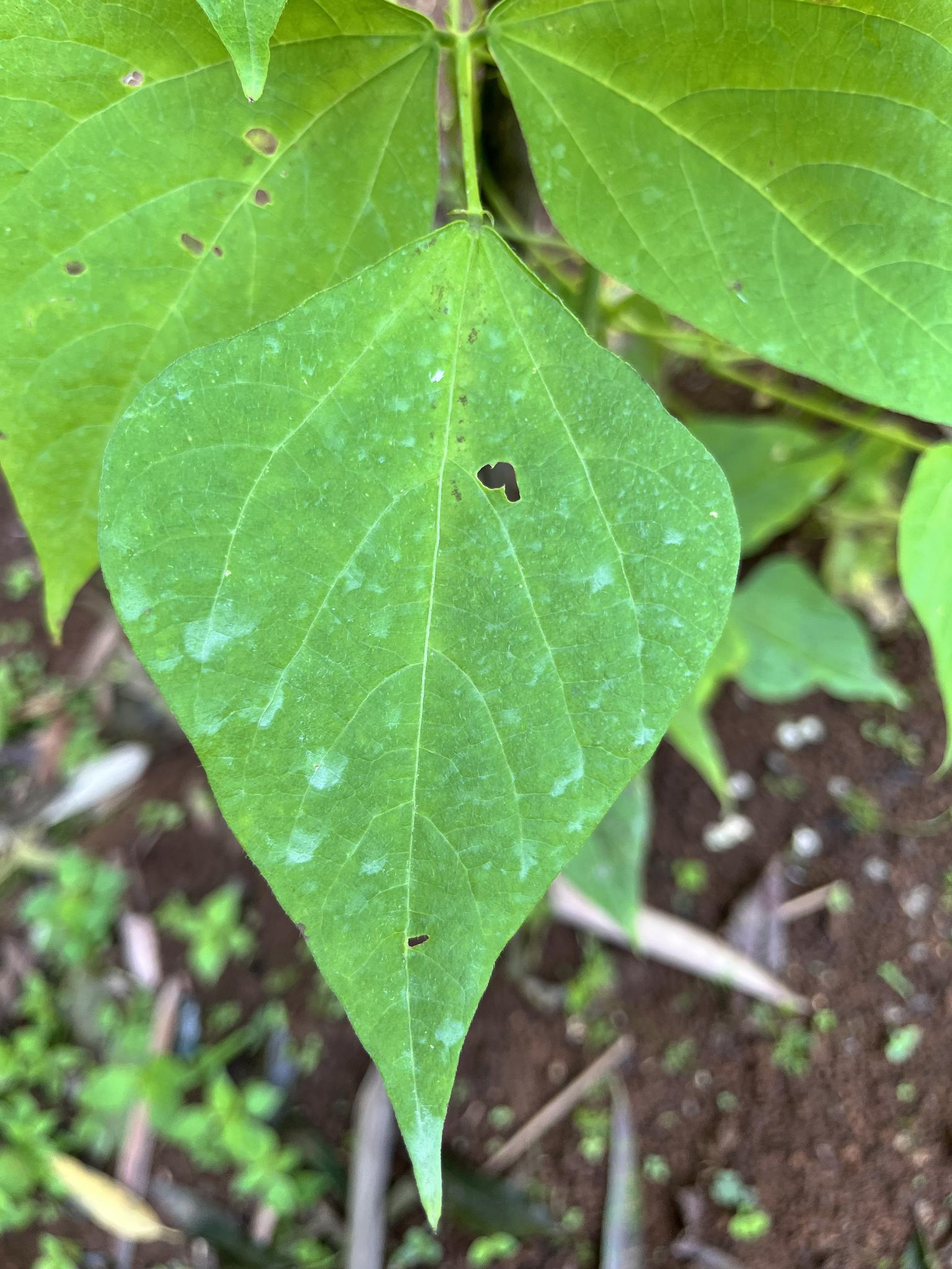embun tepung: (388, 1080, 445, 1236), (172, 589, 250, 660)
